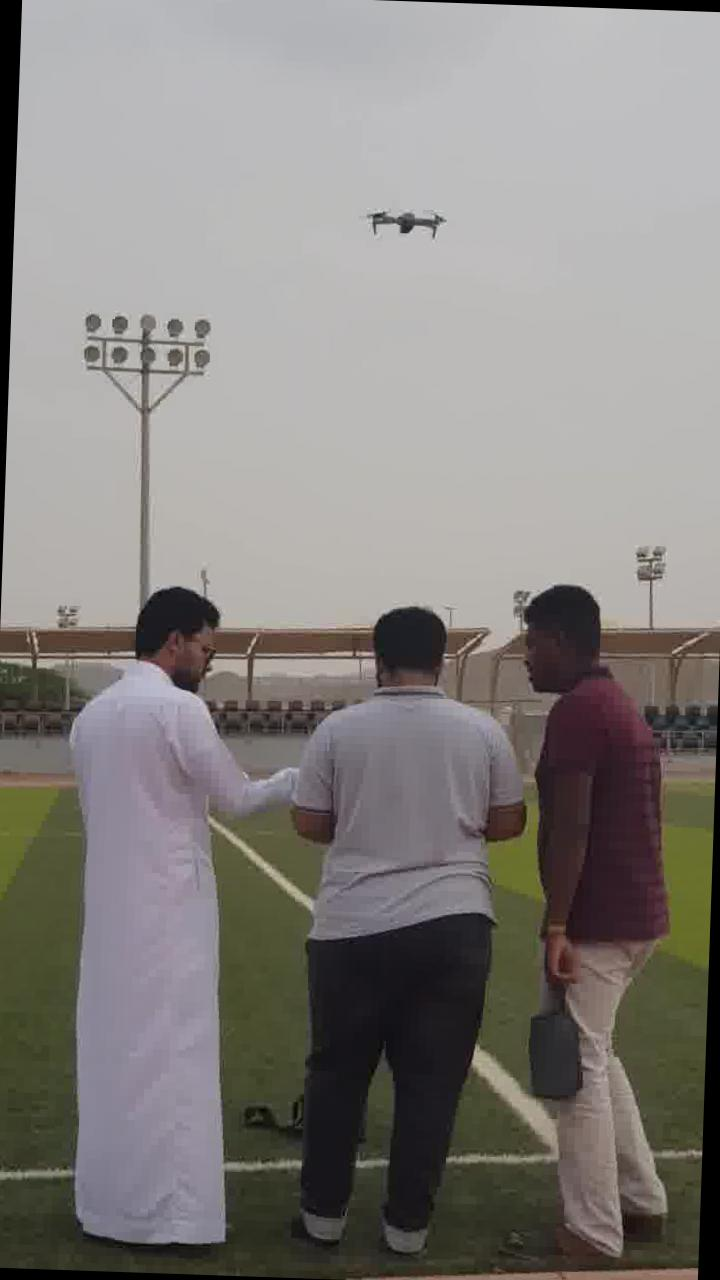drone: (358, 196, 446, 240)
